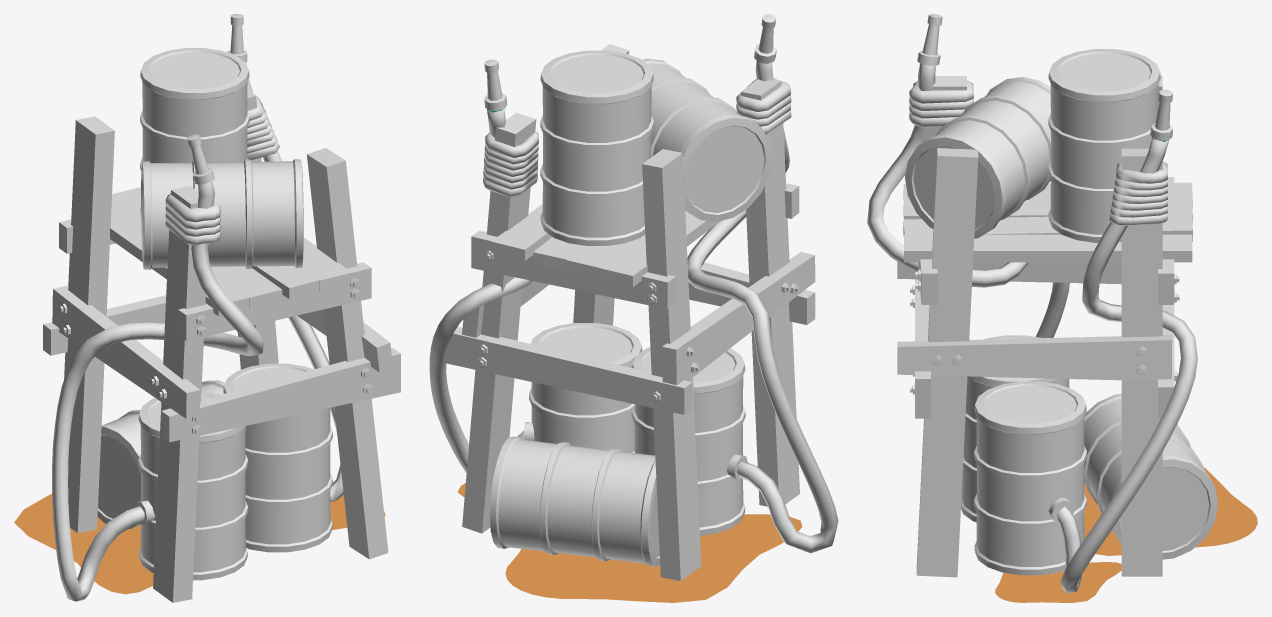
File: slow tower.fbx
3 views of the same model, side by side, from view 1: azimuth 30°, elevation 25°; view 2: azimuth 150°, elevation 25°; view 3: azimuth 270°, elevation 25° (orthographic). The views are drawn at different scales.
Visible parts, largest first — view 1: Cube.335; view 2: Cube.335; view 3: Cube.335.
Boxes of the visible parts, x1,y1,x2,y2 form: Cube.335: (14, 14, 400, 602); Cube.335: (429, 14, 838, 602); Cube.335: (867, 14, 1257, 602).
Size of what is drawn, in the model's own units: 544 by 736 by 537.
